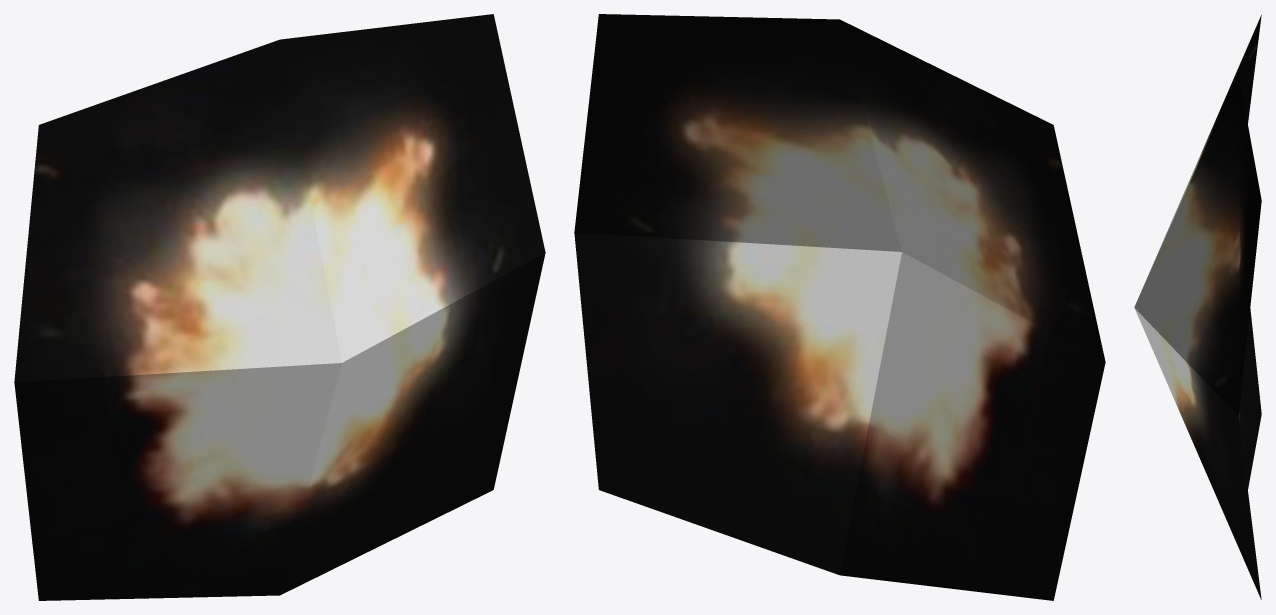
File: FirstPersonMuzzleFlash (fbx).fbx
3 renders of one model, left to right at view 1: azimuth 30°, elevation 25°; view 2: azimuth 150°, elevation 25°; view 3: azimuth 270°, elevation 25°, orthographic. The views are drawn at different scales.
Parts seen in each view (by area): view 1: Cube; view 2: Cube; view 3: Cube.
Part boxes in pixels (x1,y1,x2,y2): Cube: (14, 14, 545, 600); Cube: (574, 14, 1105, 600); Cube: (1134, 15, 1261, 599).
Bounding box in the file's own units: 2 × 2 × 0.4943.
